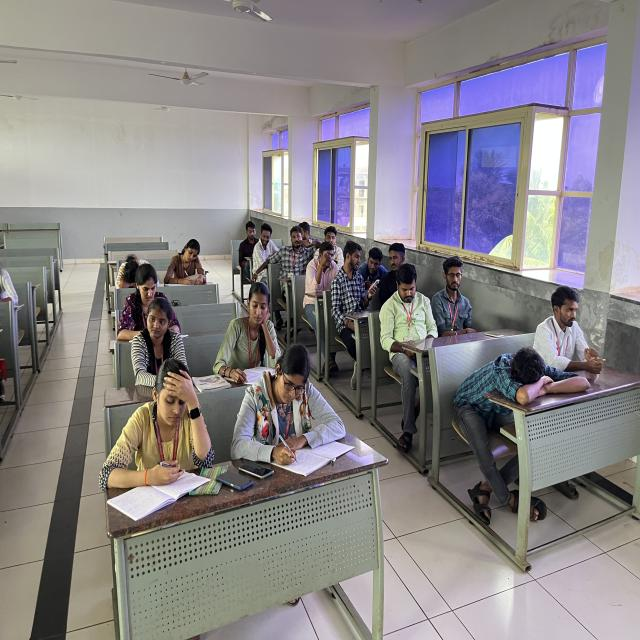Reading: (214, 256, 286, 380)
Sleeping: (452, 333, 590, 447), (108, 252, 157, 290)
Using Phone: (337, 238, 383, 312)
Writing: (233, 338, 364, 471), (108, 353, 218, 492), (160, 224, 217, 289)
